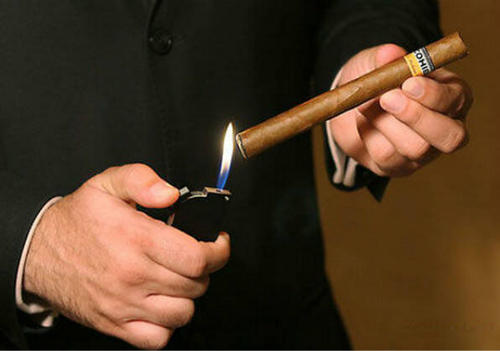fire: (207, 114, 253, 216)
